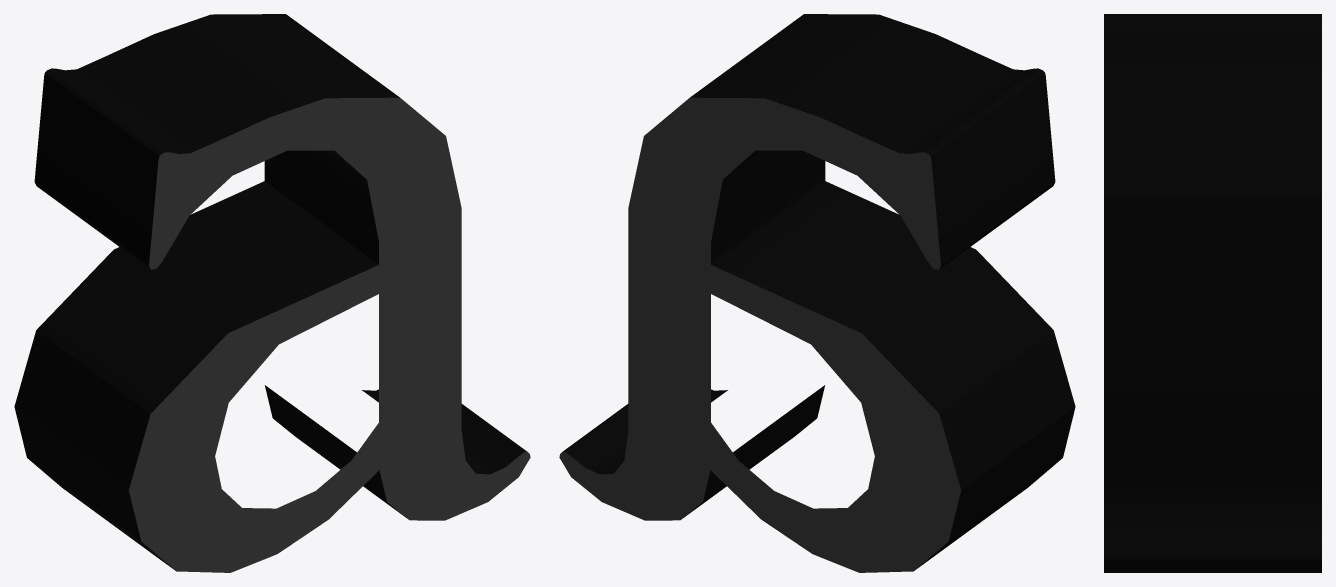
3 renders of one model, left to right at view 1: azimuth 30°, elevation 25°; view 2: azimuth 150°, elevation 25°; view 3: azimuth 270°, elevation 25°, orthographic. The views are drawn at different scales.
Parts seen in each view (by area): view 1: a_Soul_Black; view 2: a_Soul_Black; view 3: a_Soul_Black.
Part boxes in pixels (<box>): a_Soul_Black: <box>14,14,530,572</box>; a_Soul_Black: <box>559,14,1075,572</box>; a_Soul_Black: <box>1104,14,1321,572</box>.
Size of what is drawn, in the model's own units: 0.0912 by 0.098 by 0.045.
2 materials, 2 textured.
